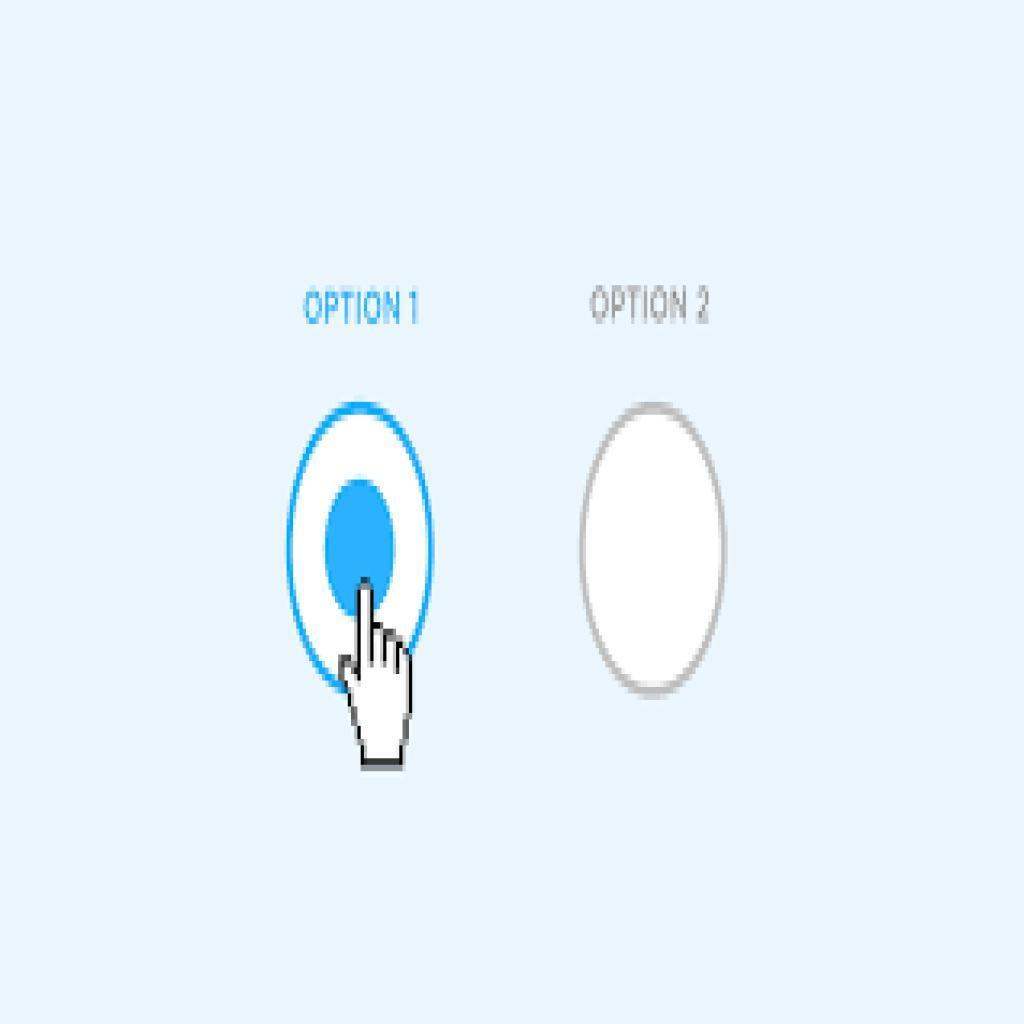radio: (569, 396, 732, 706)
